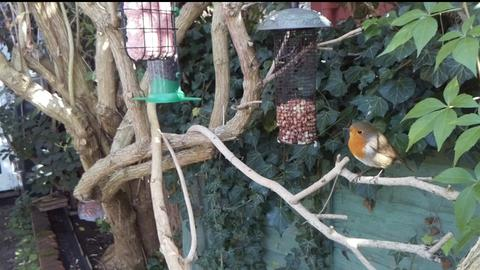robin: (342, 122, 416, 188)
